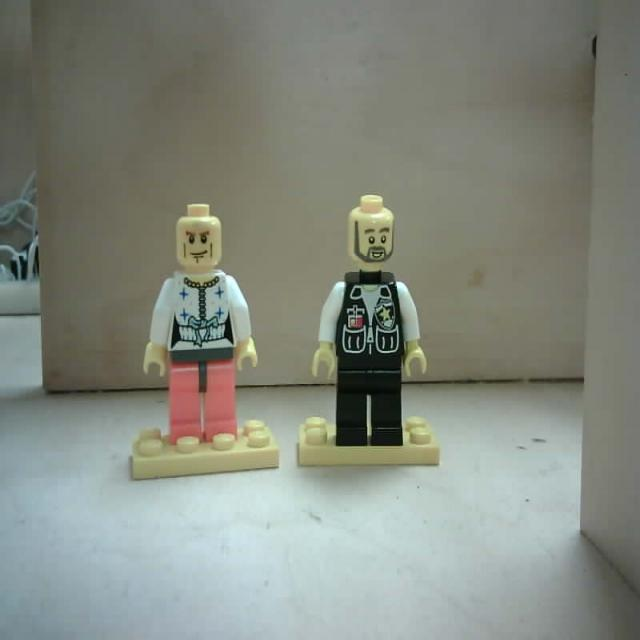Lego-People: (129, 201, 282, 480), (300, 195, 442, 477)
